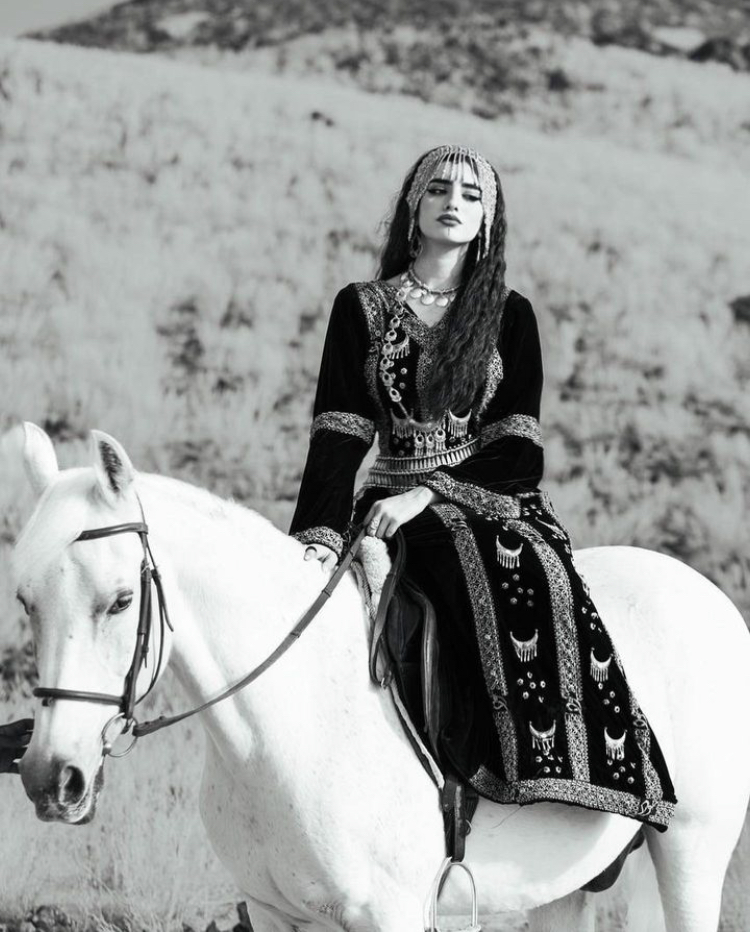Saudi_Founding_Day: (290, 143, 683, 837)
